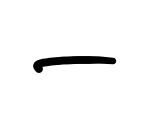minus: (33, 56, 116, 73)
